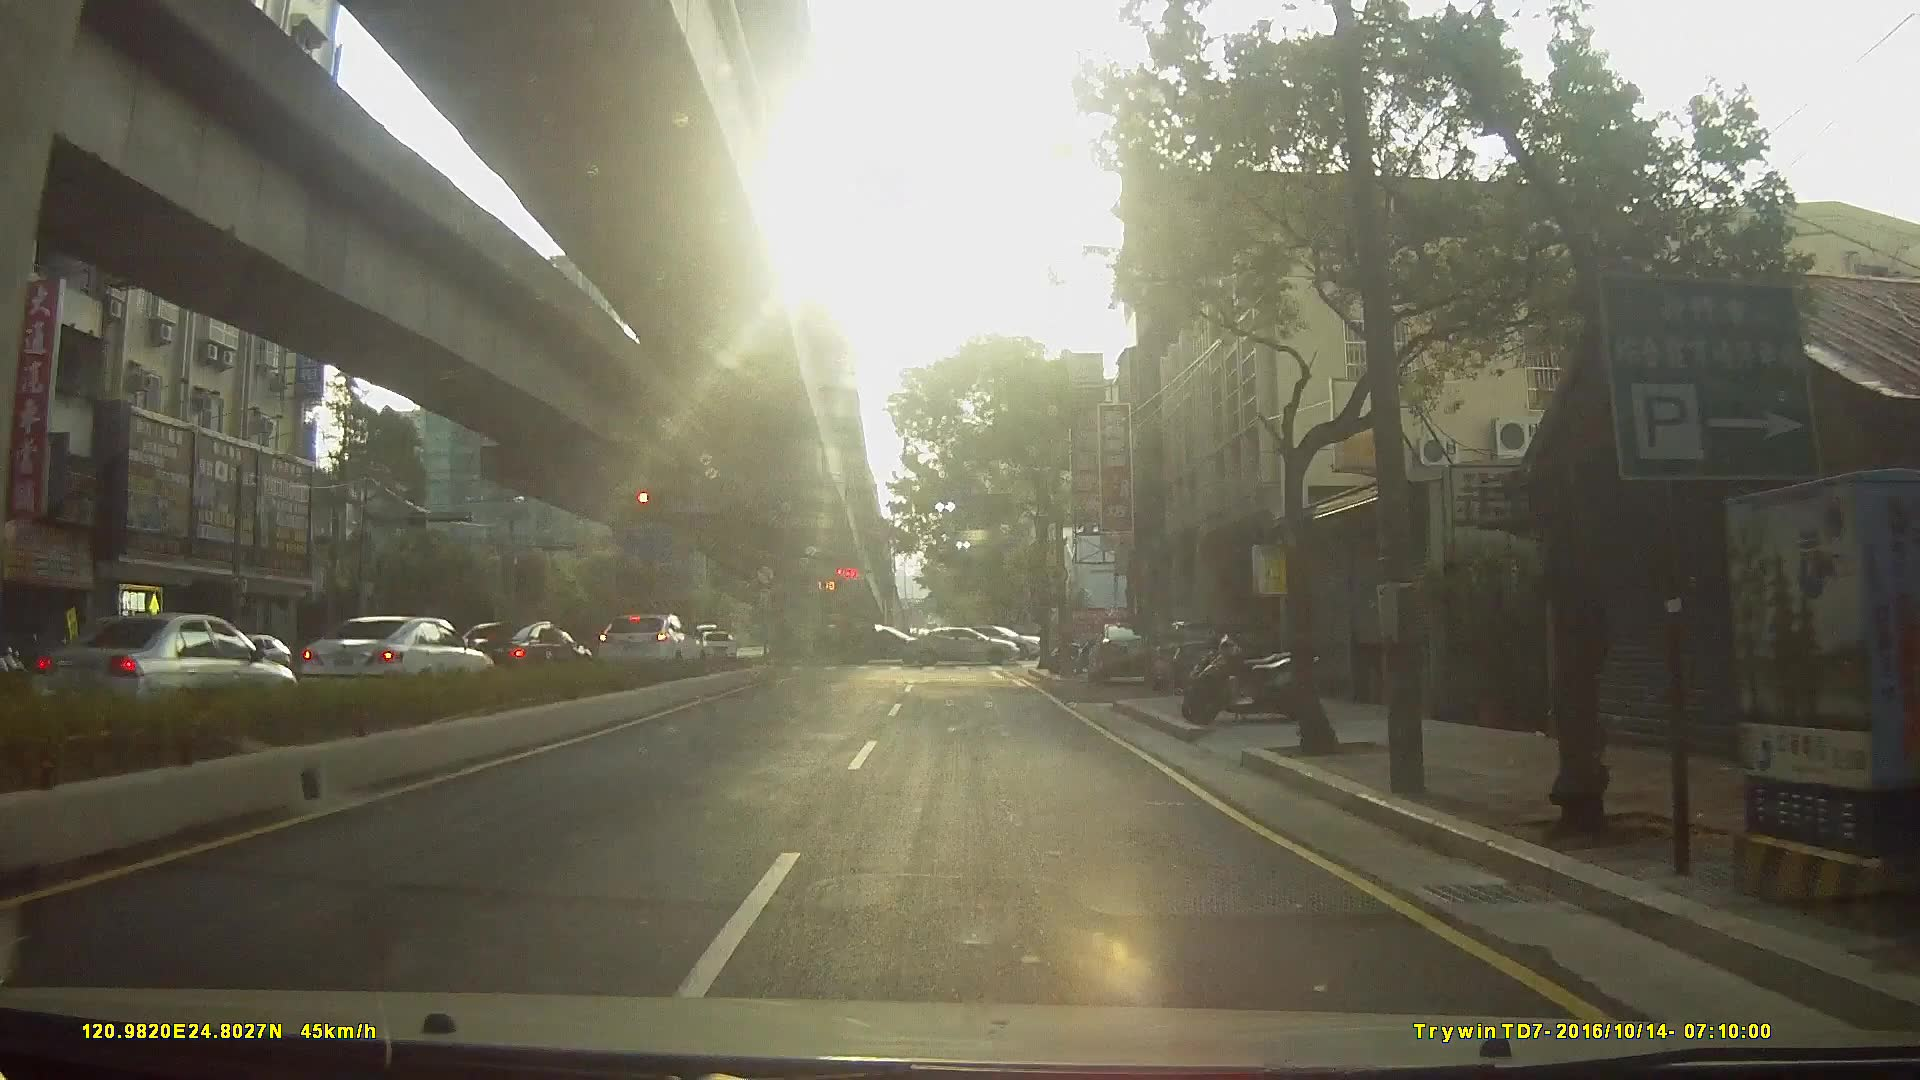vehicle: (36, 612, 295, 725), (289, 613, 491, 700), (440, 615, 588, 682), (592, 611, 705, 673), (1153, 620, 1242, 695), (1085, 618, 1168, 684), (905, 624, 1026, 665), (840, 622, 931, 666), (695, 626, 735, 661)
